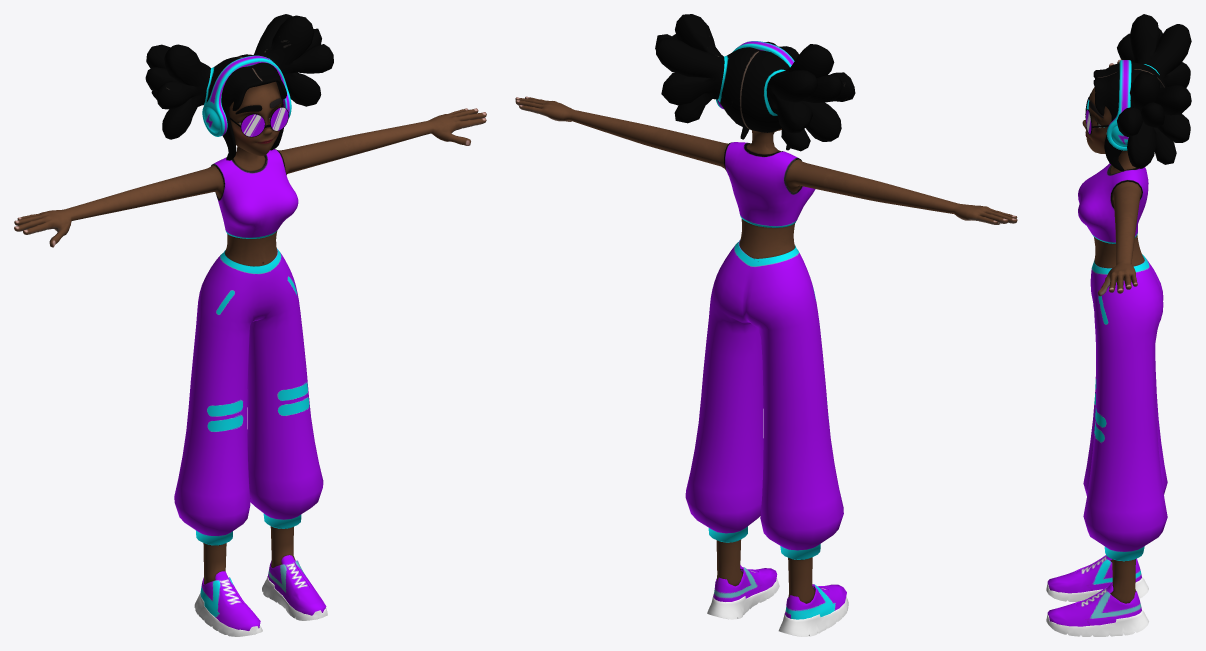
File: player.glb
3 views of the same model, side by side, from view 1: azimuth 30°, elevation 25°; view 2: azimuth 150°, elevation 25°; view 3: azimuth 270°, elevation 25° (orthographic). The views are drawn at different scales.
Parts seen in each view (by area): view 1: Ch03; view 2: Ch03; view 3: Ch03.
Part boxes in pixels (left/top/right/bottom): Ch03: left=14, top=14, right=486, bottom=636; Ch03: left=515, top=14, right=1017, bottom=636; Ch03: left=1046, top=14, right=1191, bottom=636.
Size of the model in its own units: 1.46 by 1.66 by 0.3871.
Materials: 1 (1 with a texture image).
